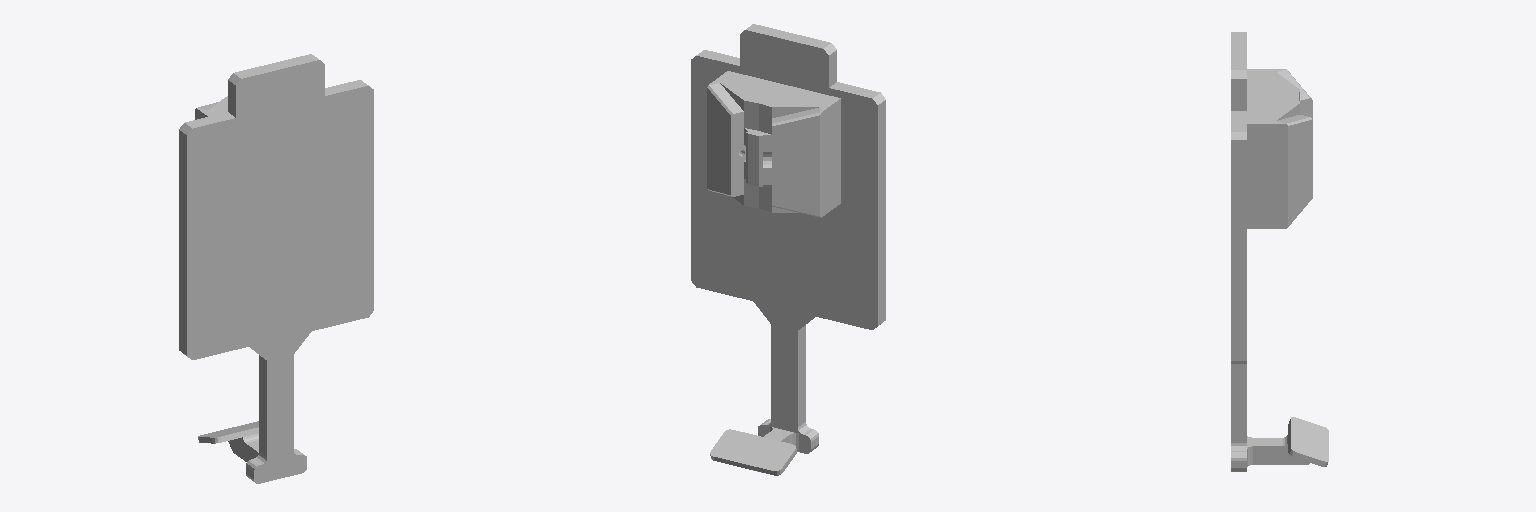
The picture shows the model from 3 angles: view 1: azimuth 30°, elevation 25°; view 2: azimuth 150°, elevation 25°; view 3: azimuth 270°, elevation 25°; orthographic projection.
Visible parts, largest first — view 1: base_link; view 2: base_link; view 3: base_link.
Boxes of the visible parts, box(x1,y1,x2,y2) form: base_link: box(179, 54, 373, 483); base_link: box(691, 24, 885, 475); base_link: box(1231, 32, 1328, 471).
Bounding box in the file's own units: 0.105 × 0.2198 × 0.0479.